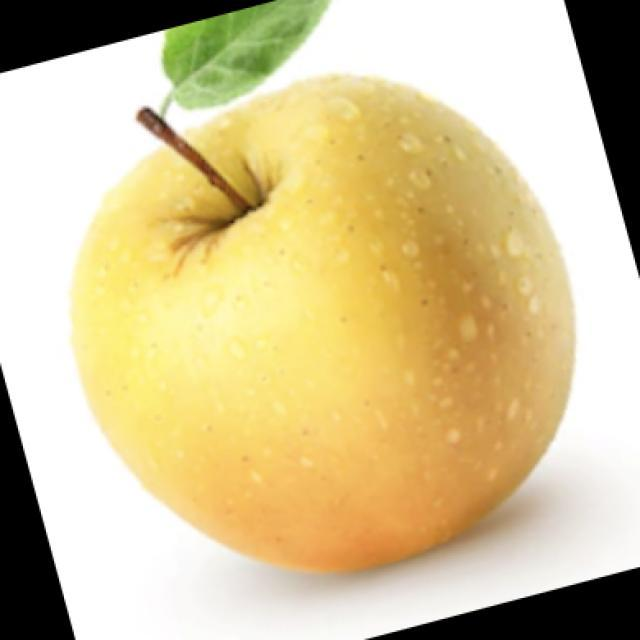Fresh Apple: (91, 72, 566, 568)
